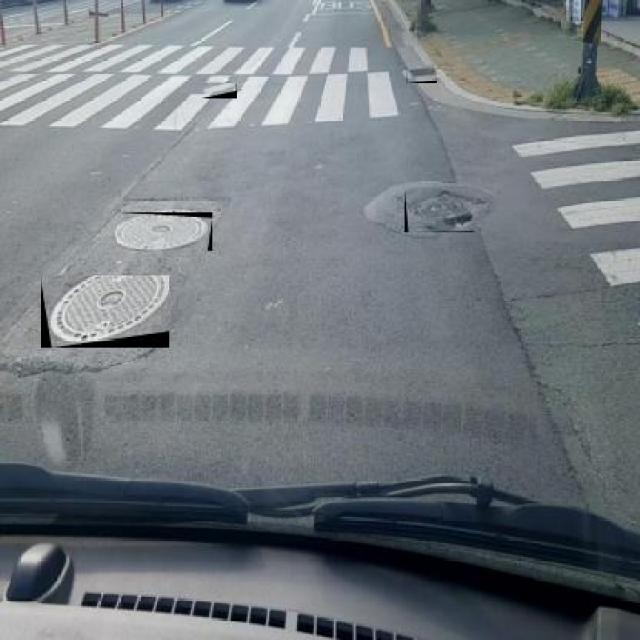Manhole: (40, 275, 169, 348), (116, 212, 212, 251), (404, 190, 474, 232), (407, 64, 438, 84), (202, 83, 236, 99)
Pothole: (55, 412, 89, 466), (438, 213, 472, 226)
